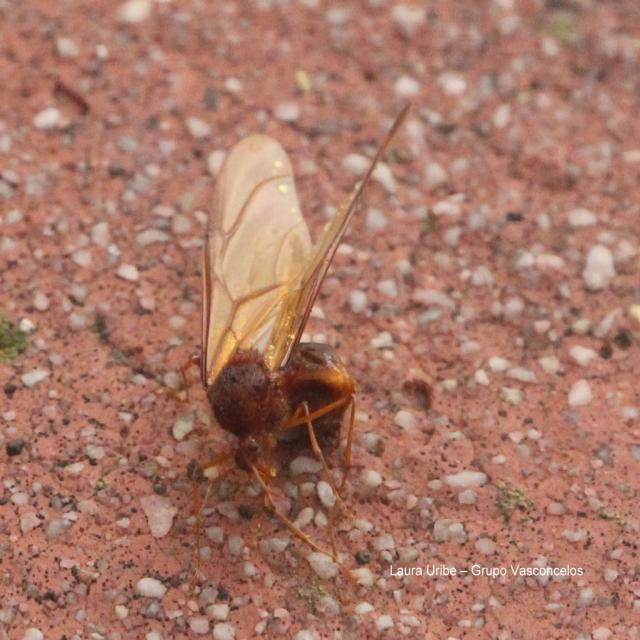Dead-Male-Alate: (166, 101, 412, 594)
